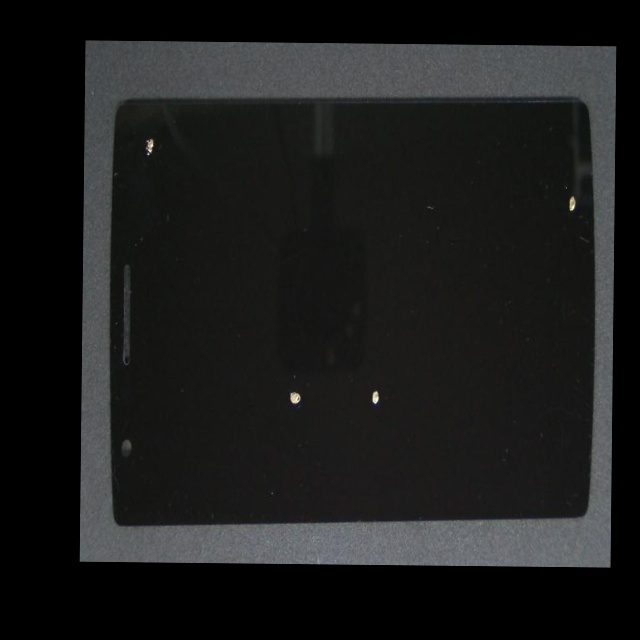stain: (220, 214, 504, 566), (165, 222, 393, 565), (313, 136, 615, 327), (118, 64, 168, 234)
